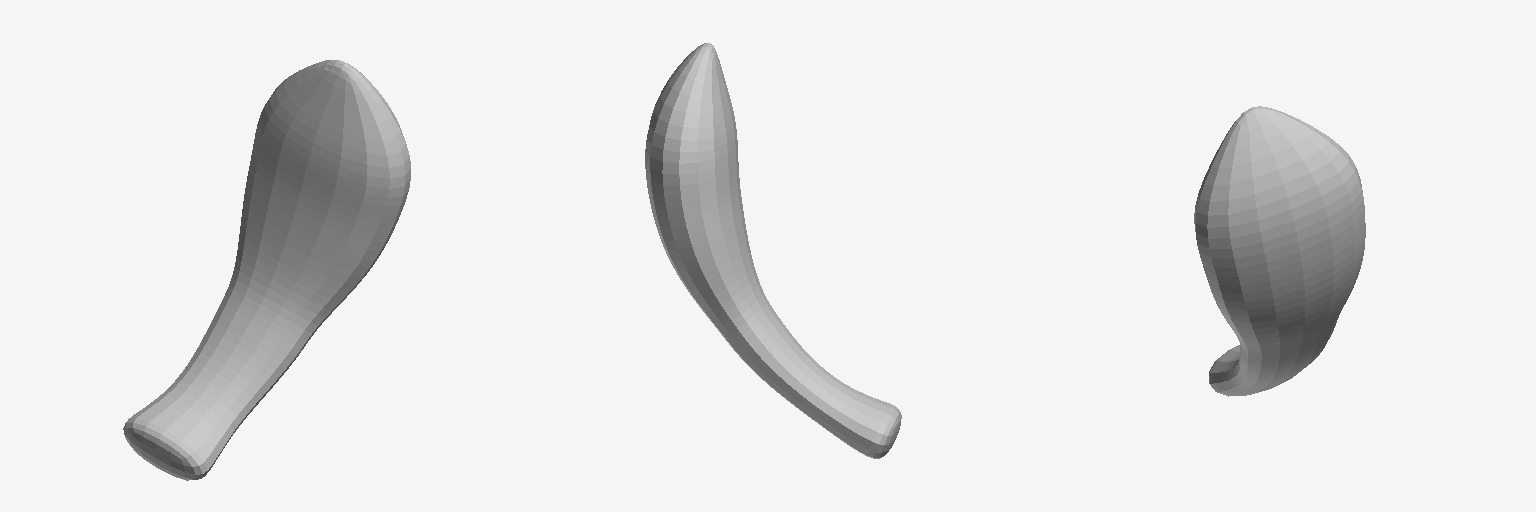
Rendered from L_F_tentacle.obj.
The picture shows the model from 3 angles: view 1: azimuth 30°, elevation 25°; view 2: azimuth 150°, elevation 25°; view 3: azimuth 270°, elevation 25°; orthographic projection.
Visible parts, largest first — view 1: 큐브; view 2: 큐브; view 3: 큐브.
Boxes of the visible parts, box(x1,y1,x2,y2) form: 큐브: box(123, 60, 410, 480); 큐브: box(645, 43, 901, 458); 큐브: box(1194, 106, 1365, 396).
Size of the model in its own units: 0.1091 by 0.1537 by 0.0647.